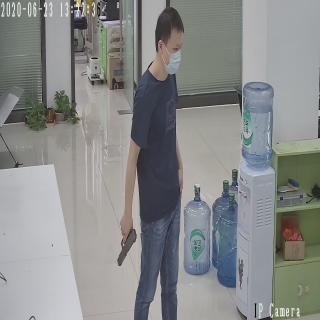gun: (116, 218, 138, 267)
